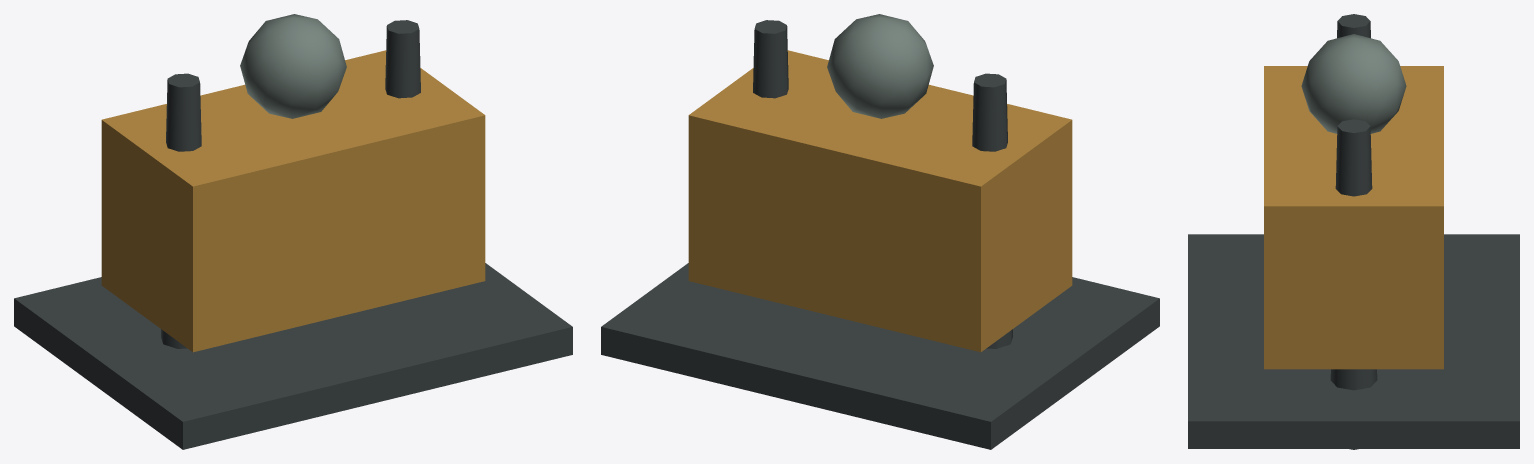
Rendered from bee_hotel.glb.
3 renders of one model, left to right at view 1: azimuth 30°, elevation 25°; view 2: azimuth 150°, elevation 25°; view 3: azimuth 270°, elevation 25°, orthographic.
Visible parts, largest first — view 1: habitat_bowl, habitat_base, habitat_marker, habitat_post_-1, habitat_post_1; view 2: habitat_bowl, habitat_base, habitat_marker, habitat_post_-1, habitat_post_1; view 3: habitat_bowl, habitat_base, habitat_marker, habitat_post_1, habitat_post_-1.
Part boxes in pixels (left/top/right/bottom): habitat_bowl: left=101, top=50, right=485, bottom=352; habitat_base: left=14, top=263, right=572, bottom=449; habitat_marker: left=240, top=14, right=346, bottom=118; habitat_post_-1: left=161, top=73, right=201, bottom=348; habitat_post_1: left=385, top=20, right=420, bottom=98; habitat_bowl: left=688, top=50, right=1072, bottom=352; habitat_base: left=601, top=263, right=1159, bottom=449; habitat_marker: left=827, top=14, right=933, bottom=118; habitat_post_-1: left=972, top=73, right=1012, bottom=348; habitat_post_1: left=753, top=20, right=788, bottom=98; habitat_bowl: left=1264, top=66, right=1443, bottom=369; habitat_base: left=1188, top=234, right=1519, bottom=448; habitat_marker: left=1301, top=34, right=1406, bottom=133; habitat_post_1: left=1330, top=119, right=1377, bottom=449; habitat_post_-1: left=1337, top=14, right=1370, bottom=38.
Size of what is drawn, in the model's own units: 3.2 by 2.78 by 2.4.
